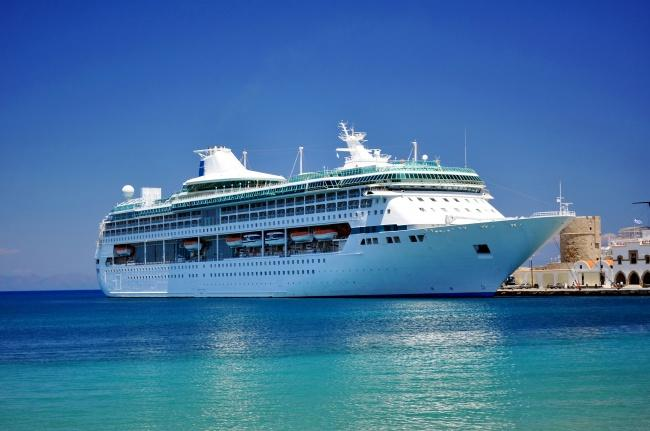youlun: (93, 124, 576, 301)
